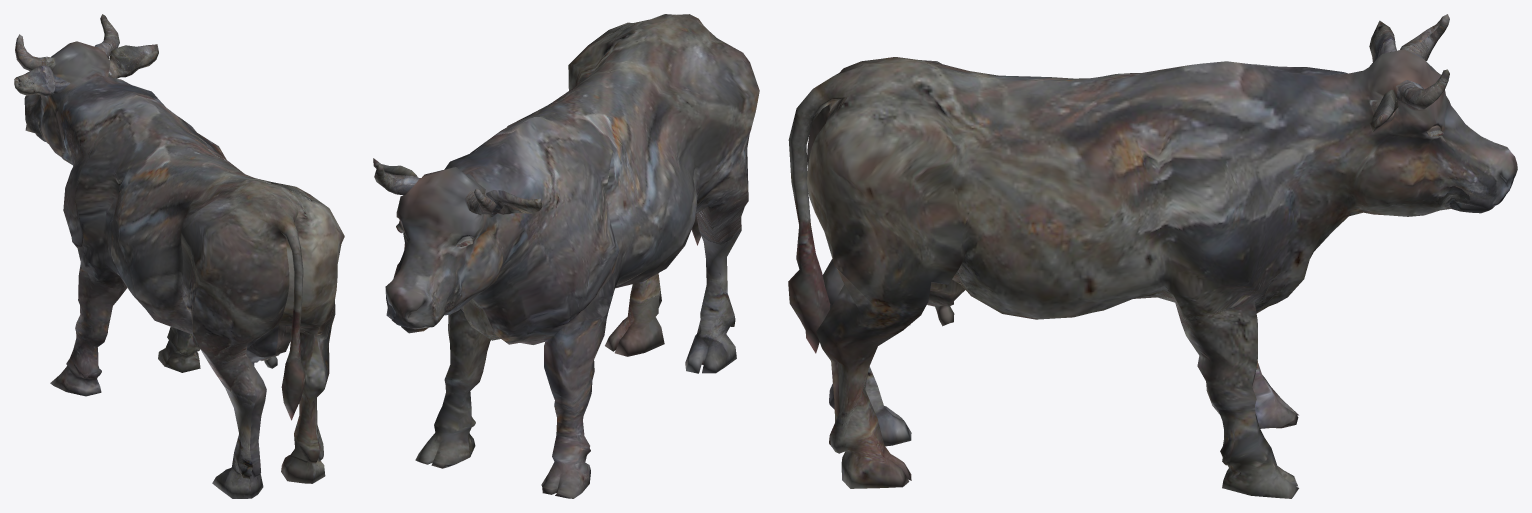
File: cow2.obj
The picture shows the model from 3 angles, left to right: view 1: azimuth 30°, elevation 25°; view 2: azimuth 150°, elevation 25°; view 3: azimuth 270°, elevation 25°; orthographic projection. The views are drawn at different scales.
Visible parts, largest first — view 1: Cube_Cube_Material_rock1.jpg; view 2: Cube_Cube_Material_rock1.jpg; view 3: Cube_Cube_Material_rock1.jpg.
Part boxes in pixels (box(x1,y1,x2,y2)): Cube_Cube_Material_rock1.jpg: box(14, 14, 344, 498); Cube_Cube_Material_rock1.jpg: box(373, 14, 759, 498); Cube_Cube_Material_rock1.jpg: box(788, 14, 1517, 498).
Bounding box in the file's own units: 3.07 × 6.22 × 9.84.
1 material, 1 textured.
